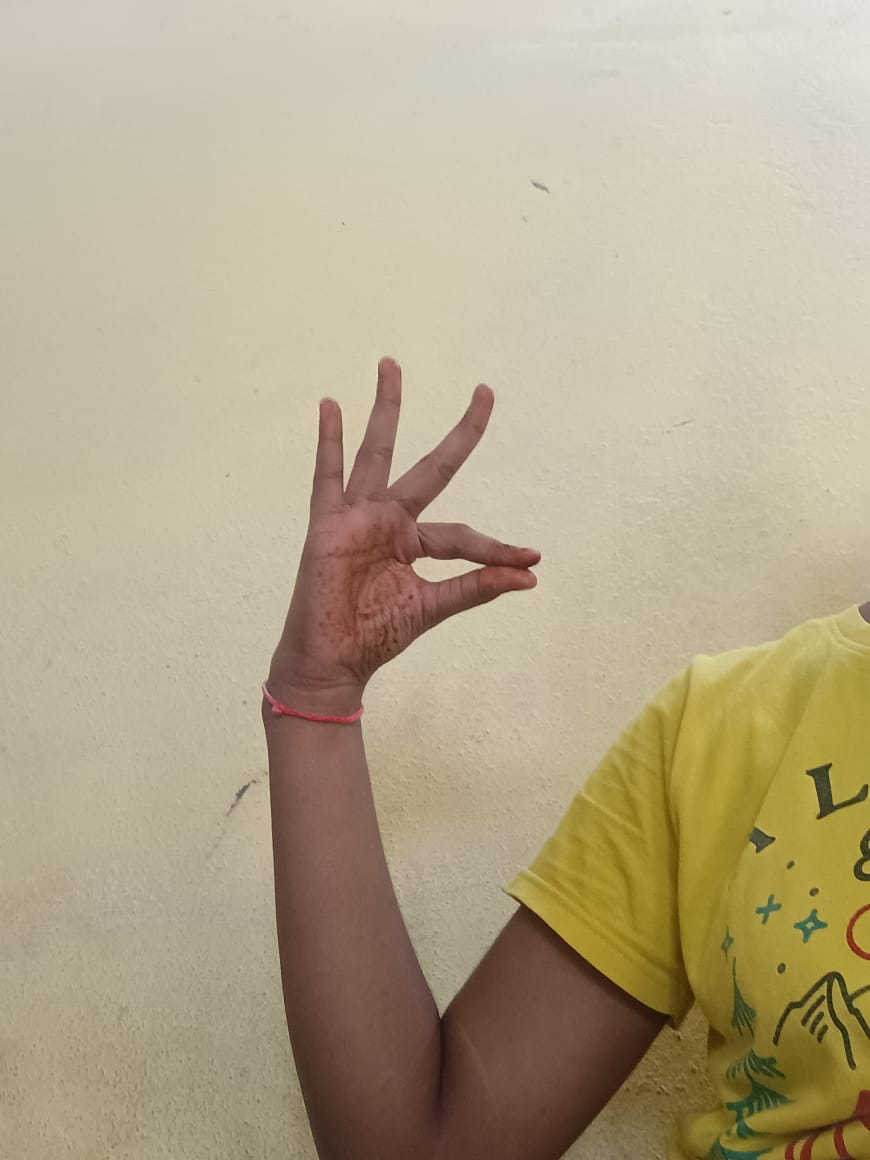F: (262, 357, 540, 689)
